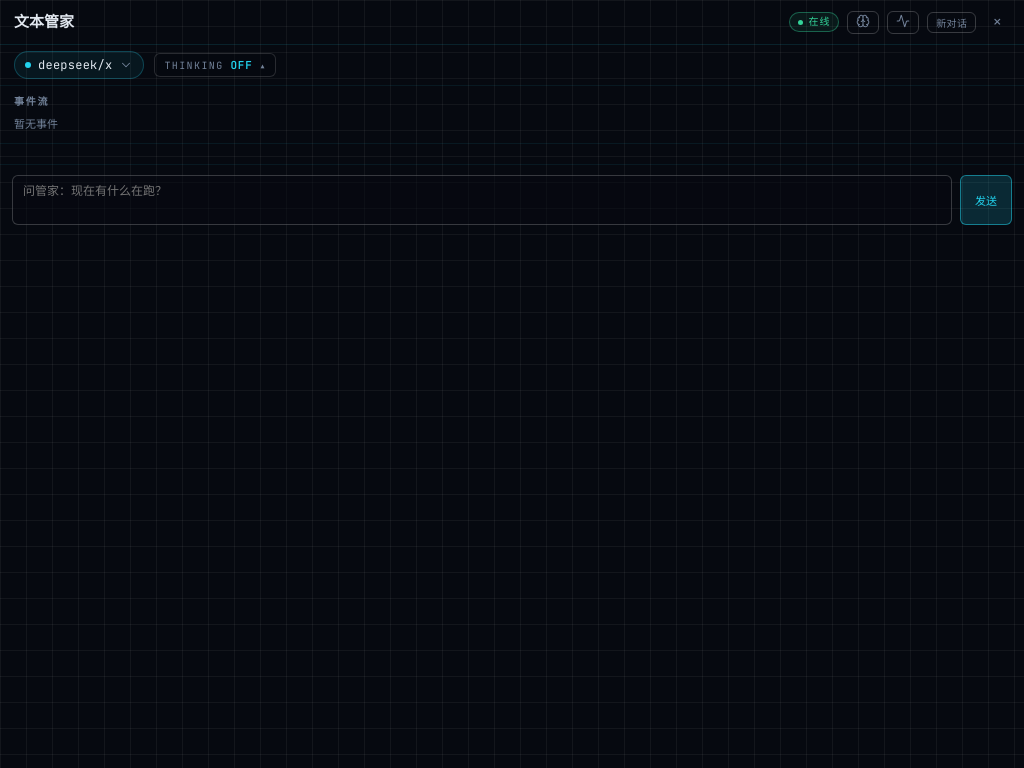
Test: StewardPanel（过程反馈——状态区与工具计时） › toolResult 到达 → 计时定格（后续推进零变化）
The image size is (1024, 768).
Type "在跑什么？" into the text box with test id "steward-input" at (482, 200), box top-left (12, 175), bottom-right (952, 225)
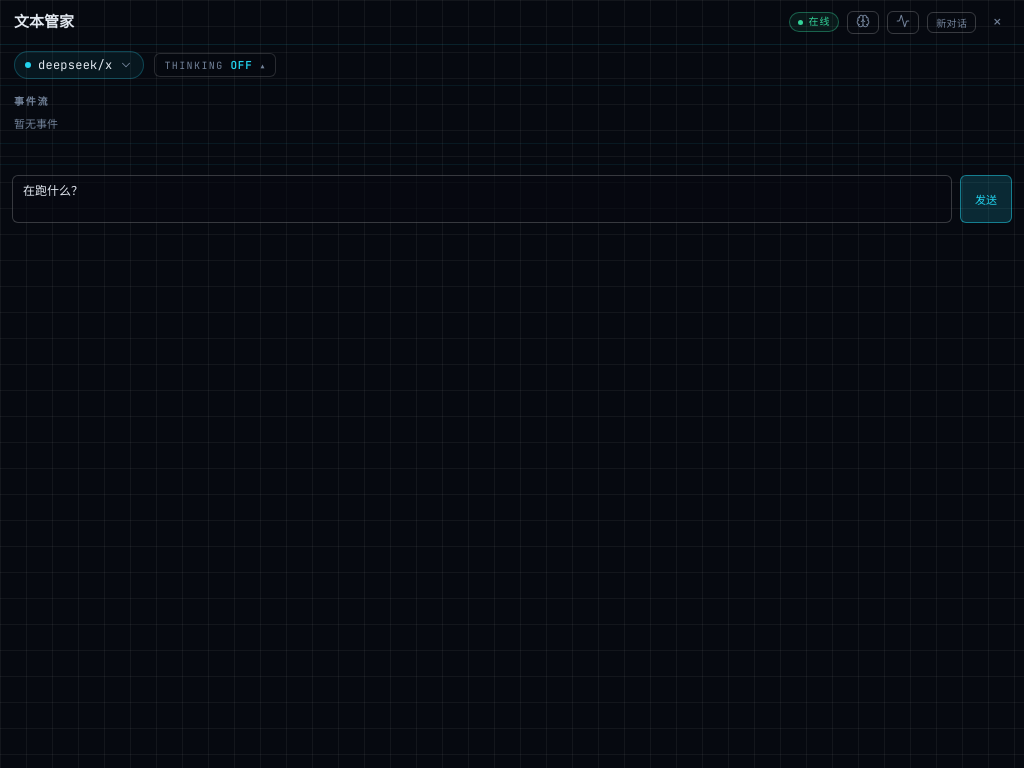
Click the button with test id "steward-send" at (986, 199), box top-left (960, 175), bottom-right (1012, 223)
Wait 15000 ms
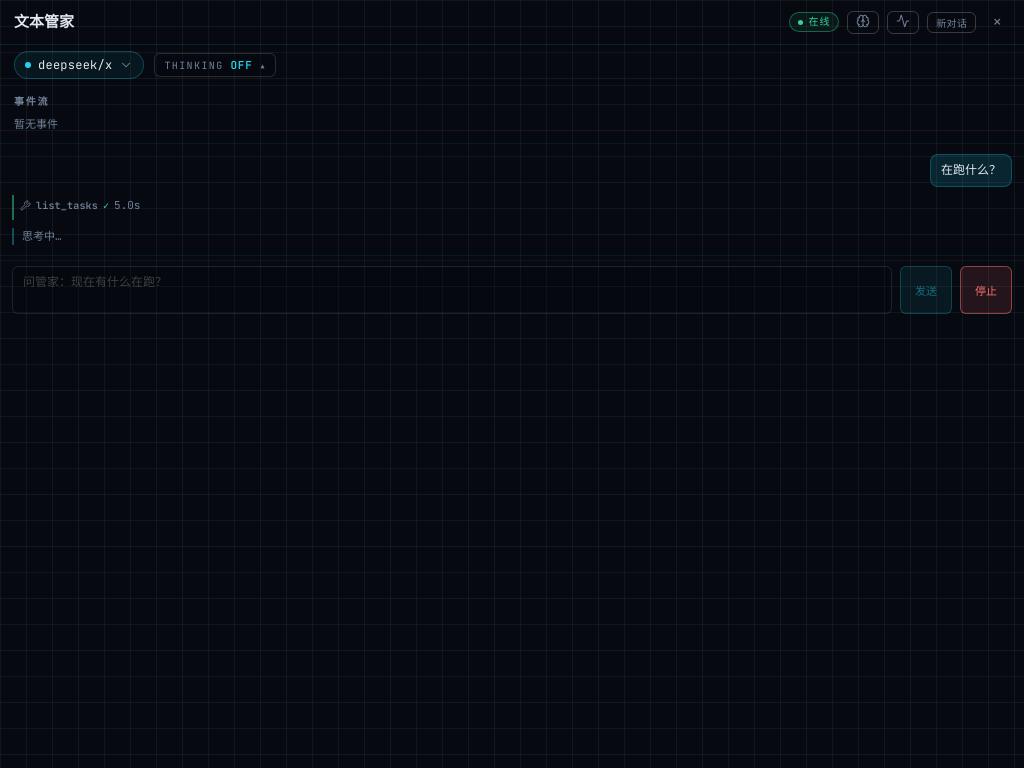
Expected: the text with test id "steward-tool-state" reads "✓", top-left (103, 199), bottom-right (109, 212)
Result: the element with test id "steward-inflight" is shown at top-left (12, 228), bottom-right (62, 245)
Result: the text with test id "steward-tool-elapsed" reads "5.0s" at top-left (114, 198), bottom-right (140, 212)
